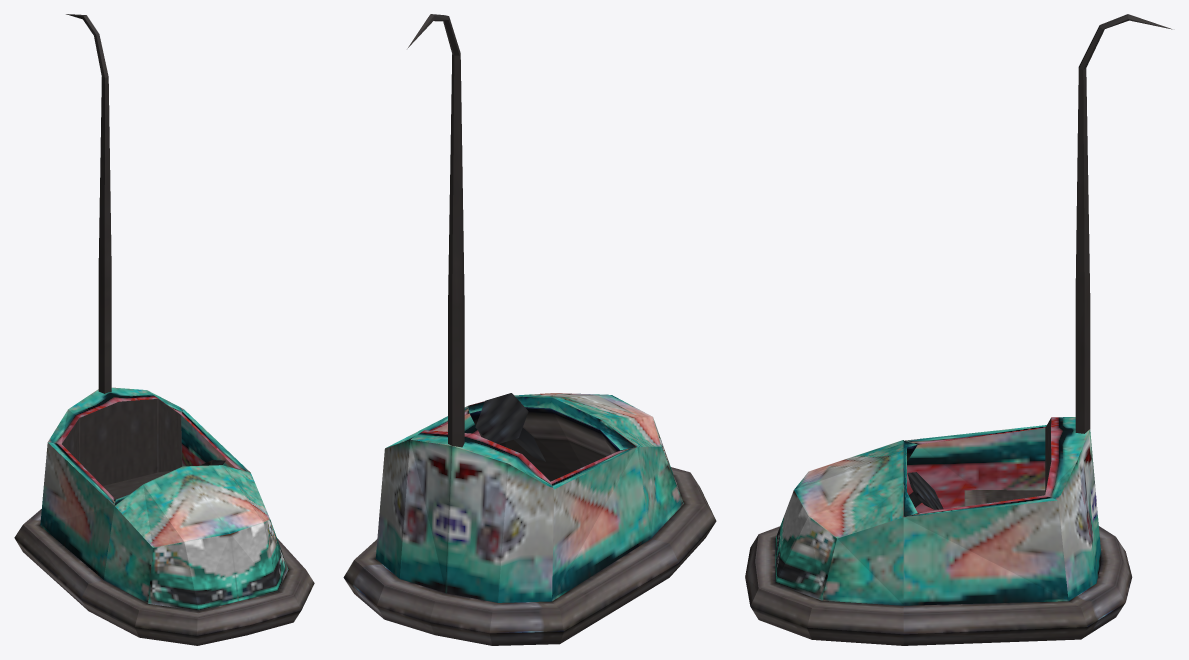
File: BumperCar01b.obj
3 views of the same model, side by side, from view 1: azimuth 30°, elevation 25°; view 2: azimuth 150°, elevation 25°; view 3: azimuth 270°, elevation 25° (orthographic). The views are drawn at different scales.
Parts seen in each view (by area): view 1: BumperCar01b; view 2: BumperCar01b; view 3: BumperCar01b.
Boxes of the visible parts, x1,y1,x2,y2 form: BumperCar01b: (14,14,314,645); BumperCar01b: (343,14,716,645); BumperCar01b: (745,14,1172,645).
Bounding box in the file's own units: 2.52 × 6 × 3.99.
